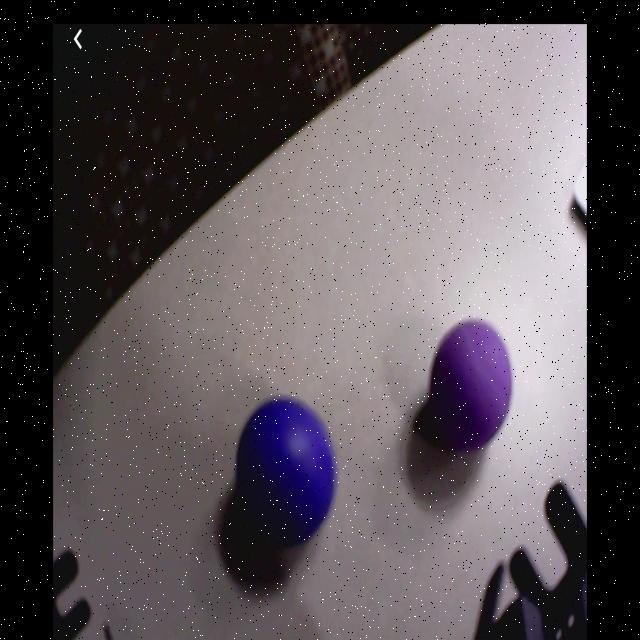ball: (237, 400, 336, 541), (434, 318, 513, 456)
